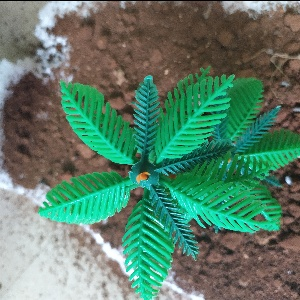plant: (36, 68, 300, 297)
